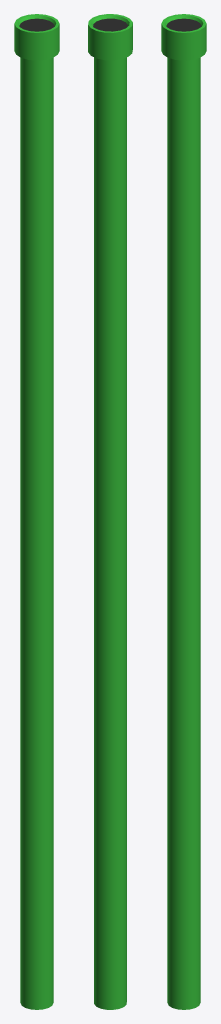
The model's file is pillar.fbx.
3 renders of one model, left to right at view 1: azimuth 90°, elevation 25°; view 2: azimuth 210°, elevation 25°; view 3: azimuth 270°, elevation 25°, orthographic.
Visible parts, largest first — view 1: Cylinder; view 2: Cylinder; view 3: Cylinder.
Part boxes in pixels (x1,y1,x2,y2): Cylinder: (14,14,59,1009); Cylinder: (88,14,132,1009); Cylinder: (161,14,206,1009).
Bounding box in the file's own units: 273 × 6540 × 273.
